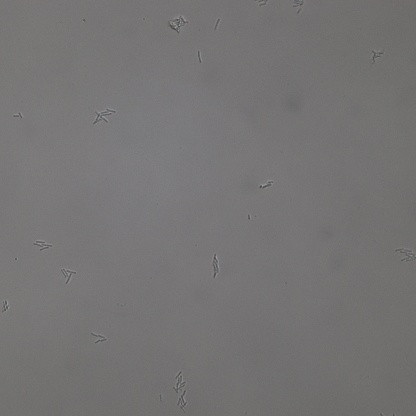R(colony): (396, 247, 416, 266), (168, 15, 188, 34), (92, 108, 116, 123), (176, 392, 190, 412), (173, 371, 186, 392), (211, 254, 221, 280), (62, 267, 76, 284), (370, 51, 385, 63), (35, 241, 52, 251), (92, 333, 107, 344), (293, 1, 303, 15), (258, 180, 274, 188), (1, 300, 10, 312), (12, 113, 23, 118)
